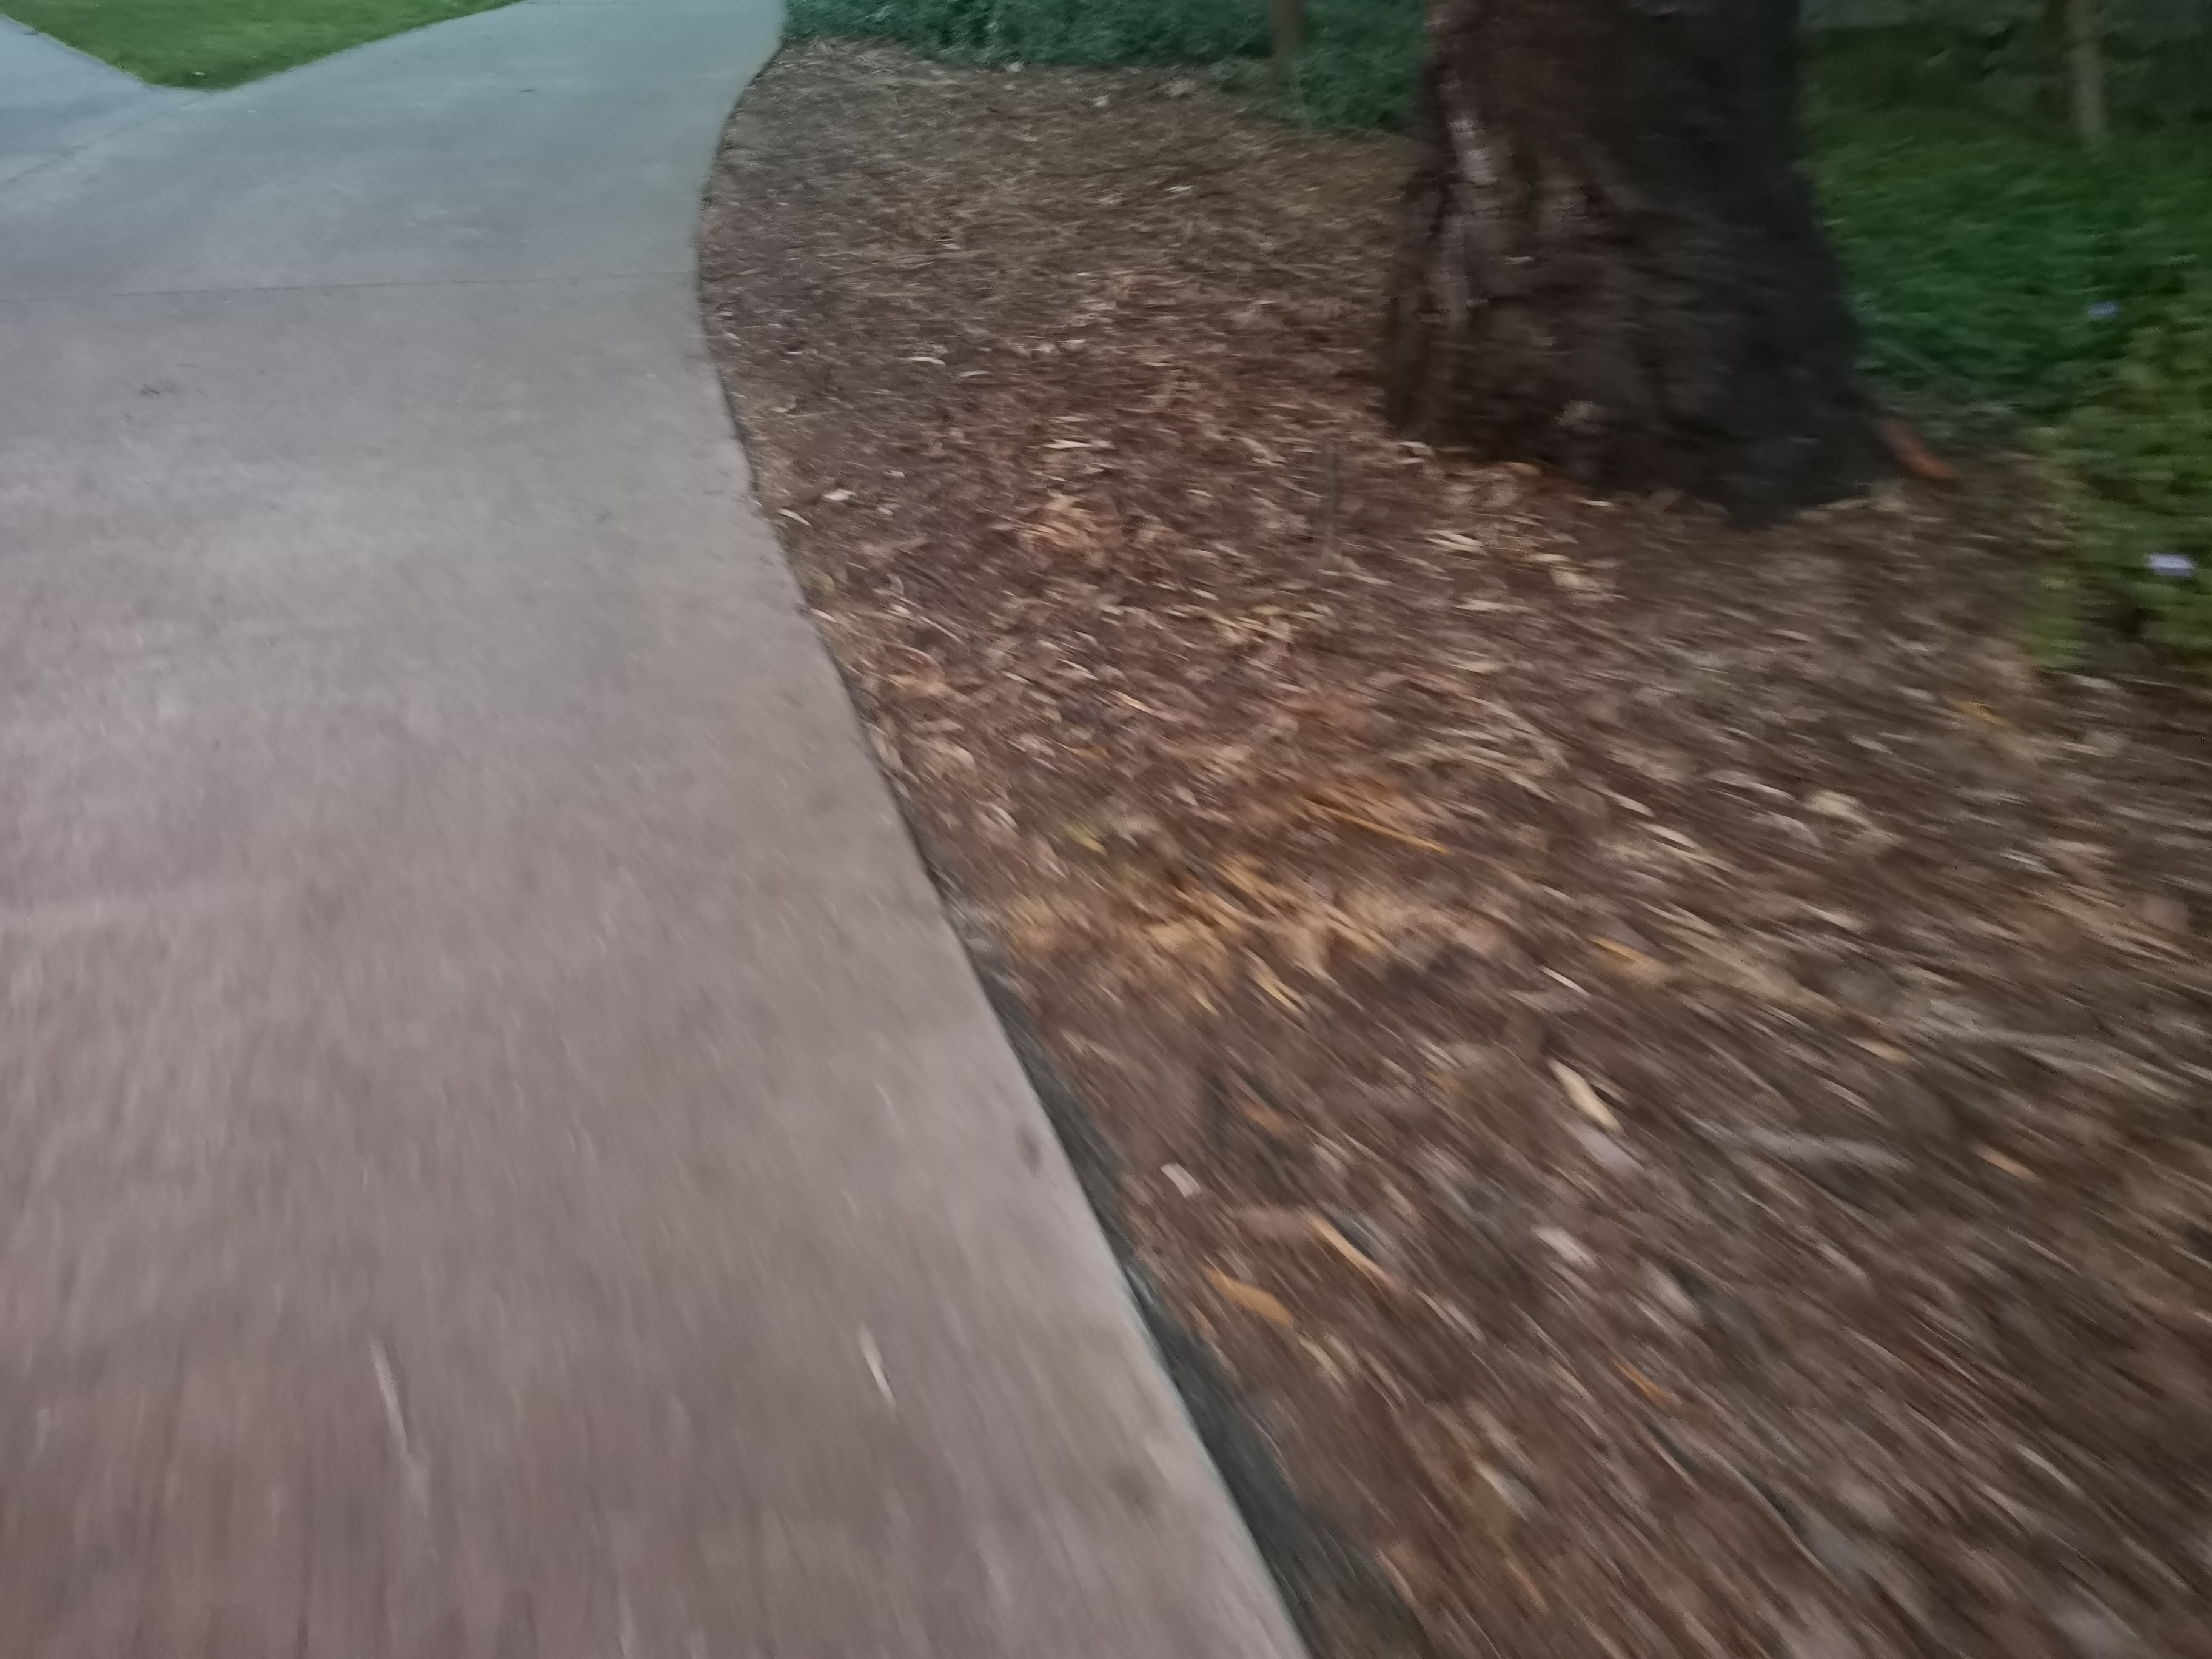Edge: (679, 23, 1348, 1652), (2, 14, 514, 99)
